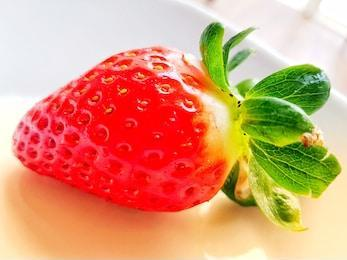Fresa: (6, 36, 254, 226)
